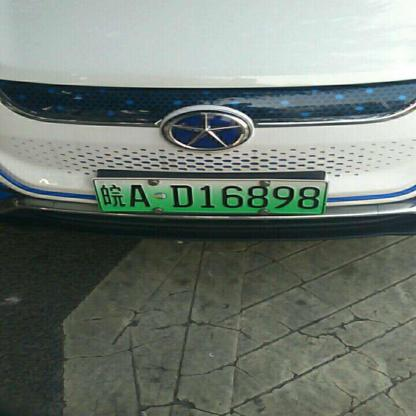lp: (94, 179, 324, 213)
